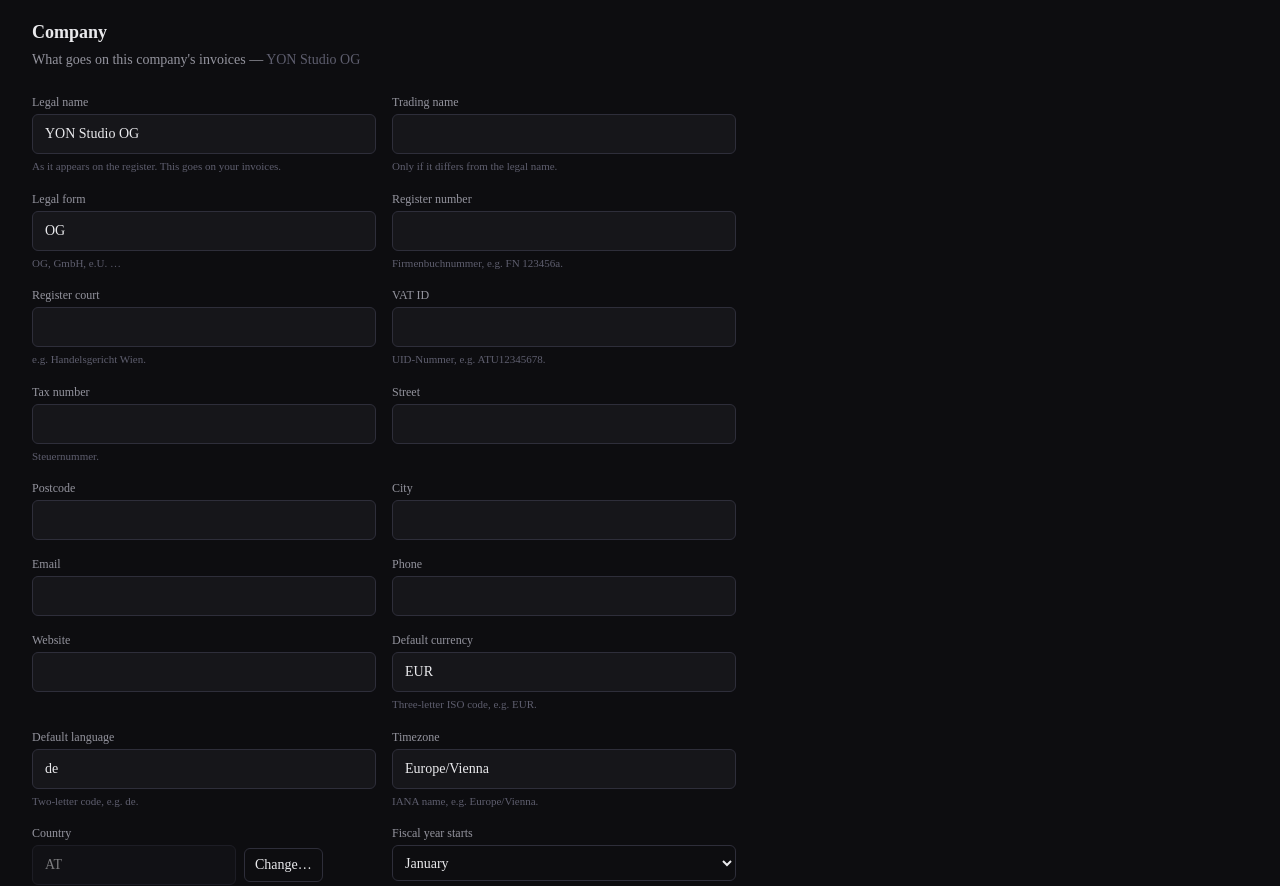
Test: the change-country dialog › says that finalised documents are unaffected
Expected: the field labelled "Country" holds "AT", top-left (32, 845), bottom-right (236, 885)
Click the button with test id "company-change-country": coordinates (283, 865) top-left (244, 848), bottom-right (323, 882)
(page scrolled)
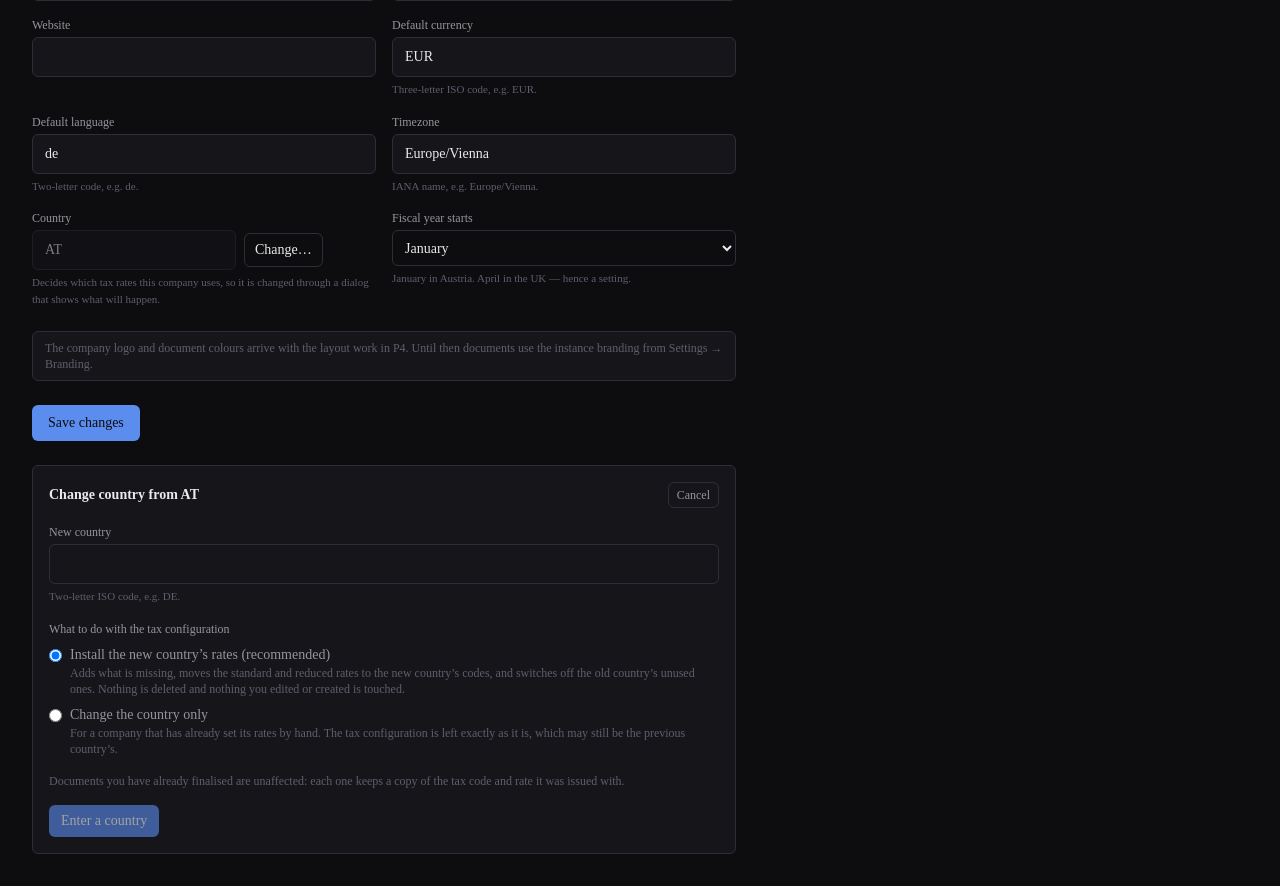
Expected: the text "already finalised are unaffected" is shown, top-left (49, 774), bottom-right (625, 788)
